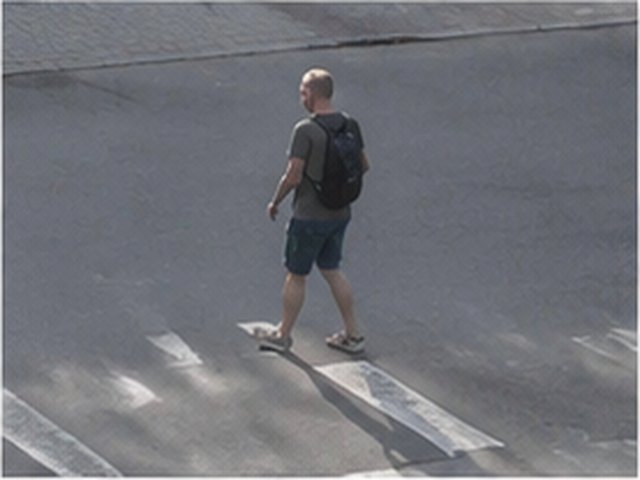suv: (259, 68, 368, 352)
